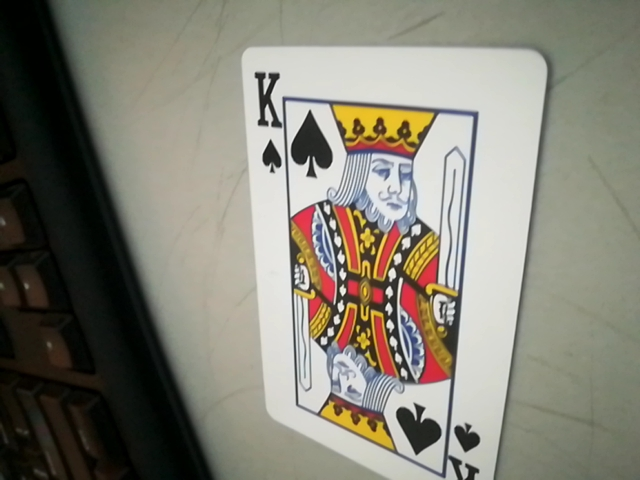ht k: (245, 61, 298, 179)
